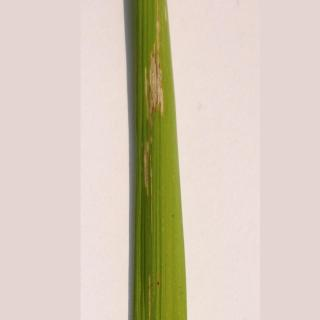Hawar-Daun: (135, 23, 172, 213), (140, 266, 159, 320)
